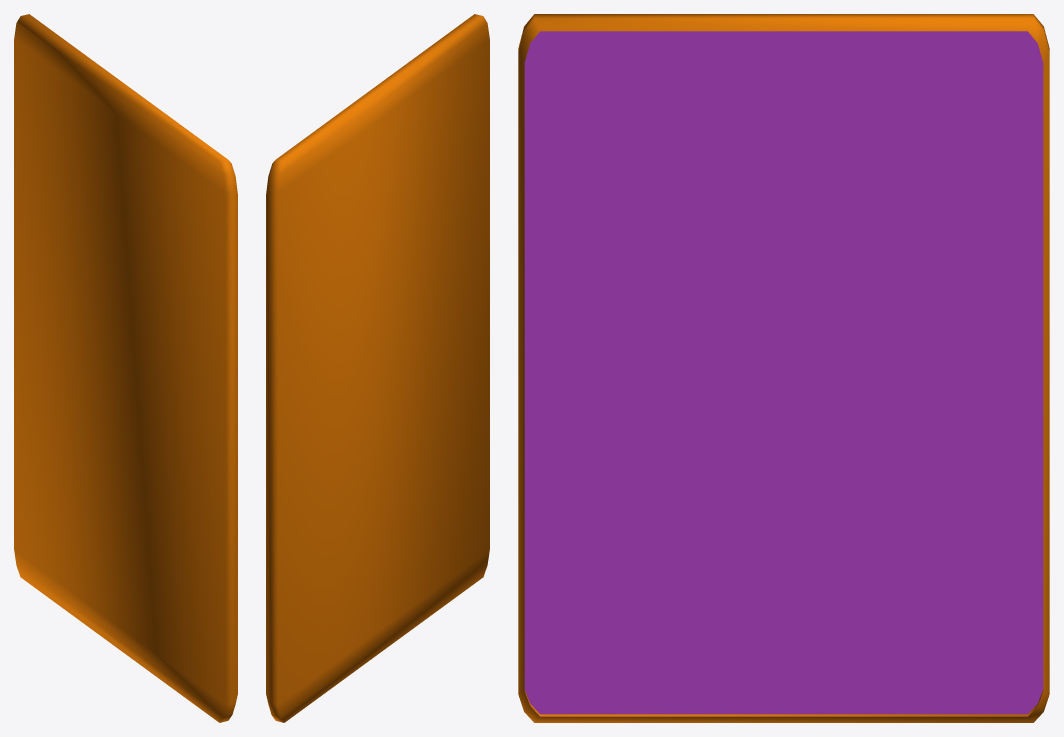
The model's file is cuadro4_pasado.fbx.
3 views of the same model, side by side, from view 1: azimuth 30°, elevation 25°; view 2: azimuth 150°, elevation 25°; view 3: azimuth 270°, elevation 25° (orthographic). The views are drawn at different scales.
Parts seen in each view (by area): view 1: Cube.008; view 2: Cube.008; view 3: Cube.006, Cube.008.
Boxes of the visible parts, <box> form: Cube.008: <box>14,14,237,722</box>; Cube.008: <box>266,14,489,722</box>; Cube.006: <box>524,31,1043,714</box>; Cube.008: <box>518,14,1049,722</box>.
Size of the model in its own units: 0.7855 by 29.32 by 20.07.
